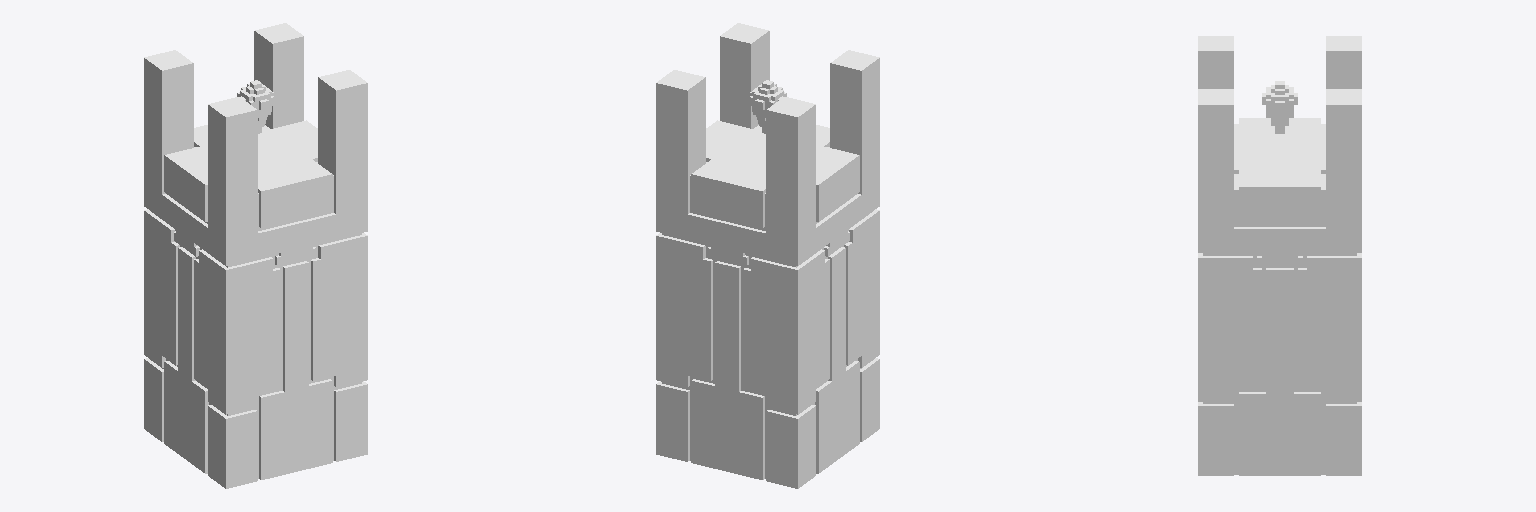
Rendered from NewArt1.obj.
The picture shows the model from 3 angles: view 1: azimuth 30°, elevation 25°; view 2: azimuth 150°, elevation 25°; view 3: azimuth 270°, elevation 25°; orthographic projection.
Visible parts, largest first — view 1: object 1; view 2: object 1; view 3: object 1.
Part boxes in pixels (x1,y1,x2,y2): object 1: (144, 23, 367, 488); object 1: (656, 23, 879, 488); object 1: (1198, 36, 1361, 475).
Size of the model in its own units: 3.6 by 9 by 3.6.